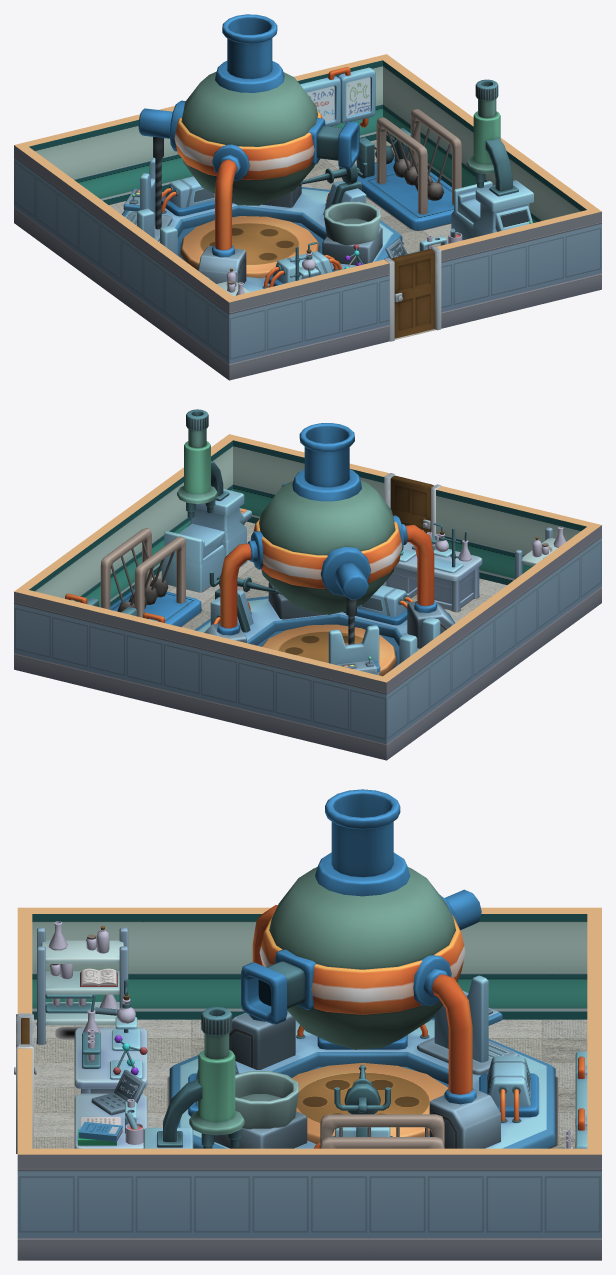
Rendered from ScienceLab_Item.FBX.
3 renders of one model, top to bottom at view 1: azimuth 30°, elevation 25°; view 2: azimuth 150°, elevation 25°; view 3: azimuth 270°, elevation 25°, orthographic. The views are drawn at different scales.
Visible parts, largest first — view 1: ScienceLab_Item_ScienceCenter, ScienceLab_Item_Momentum, ScienceLab_Item_Microscope, School_Well018, School_Well016, School_Well019, School_Well015, ScienceLab_Wall006, School_Well001, School_Well, School_Well004, School_Well002 (+17 smaller); view 2: ScienceLab_Item_ScienceCenter, ScienceLab_Item_Microscope, School_Well006, School_Well007, School_Well005, School_Well008, School_Well009, ScienceLab_Item_Momentum, ScienceLab_Wall018, ScienceLab_Item_Lab, School_Well003, School_Well004 (+16 smaller); view 3: ScienceLab_Item_ScienceCenter, School_Well012, School_Well014, School_Well013, School_Well010, School_Well011, ScienceLab_Wall001, ScienceLab_Wall004, ScienceLab_Item_Programs, ScienceLab_Item_Microscope, ScienceLab_Item_Lab, ScienceLab_Item_ScienceFacility (+29 smaller).
Boxes of the visible parts, x1,y1,x2,y2 form: ScienceLab_Item_ScienceCenter: (122,14,402,291); ScienceLab_Item_Momentum: (356,109,461,230); ScienceLab_Item_Microscope: (451,79,533,240); School_Well018: (303,266,378,362); School_Well016: (453,230,527,325); School_Well019: (229,284,303,380); School_Well015: (527,211,601,307); ScienceLab_Wall006: (94,120,168,204); School_Well001: (143,239,186,348); School_Well: (186,271,229,380); School_Well004: (14,145,56,254); School_Well002: (100,208,142,316); ScienceLab_Item_ScienceCenter: (194,423,454,676); ScienceLab_Item_Microscope: (161,409,251,592); School_Well006: (237,646,312,742); School_Well007: (163,628,237,723); School_Well005: (312,664,386,760); School_Well008: (88,610,162,705); School_Well009: (14,591,88,687); ScienceLab_Item_Momentum: (87,528,201,626); ScienceLab_Wall018: (447,493,521,584); ScienceLab_Item_Lab: (382,523,482,611); School_Well003: (429,620,472,728); School_Well004: (386,651,429,760); ScienceLab_Item_ScienceCenter: (169,789,555,1148); School_Well012: (251,1154,368,1260); School_Well014: (17,1154,134,1260); School_Well013: (134,1154,251,1260); School_Well010: (485,1154,601,1260); School_Well011: (368,1154,484,1260); ScienceLab_Wall001: (134,914,251,1019); ScienceLab_Wall004: (485,914,587,1019); ScienceLab_Item_Programs: (37,921,128,1044); ScienceLab_Item_Microscope: (143,1007,244,1148); ScienceLab_Item_Lab: (74,979,147,1093); ScienceLab_Item_ScienceFacility: (74,1069,147,1148).
Size of the model in its own units: 10 by 5.8 by 10.06.
